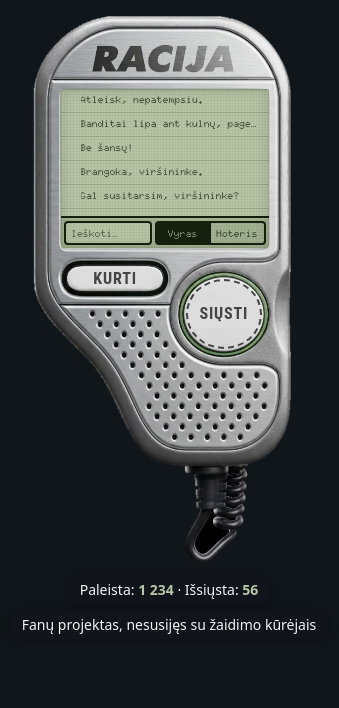
it: Radio › share › downloaded: counts and explains
Click the option "Atleisk, nepatempsiu." at (165, 101), box [60, 89, 269, 113]
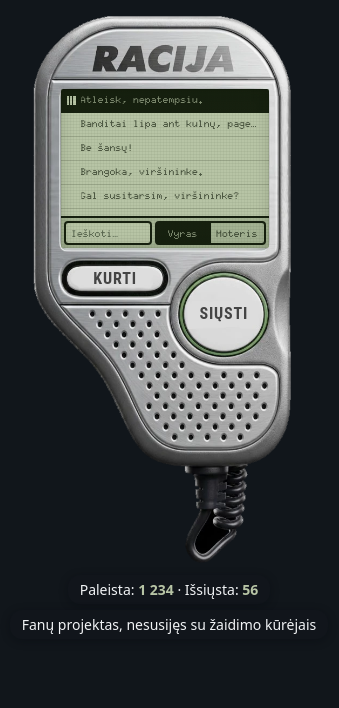
Click the button with class "skey" showing "SIŲSTI" at (224, 315), box [180, 273, 268, 356]
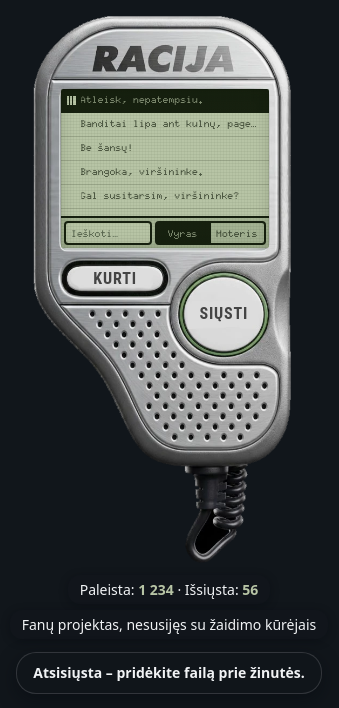
Expected: the text with class "toast" reads "Atsisiųsta – pridėkite failą prie žinutės.", [33, 663, 305, 682]
